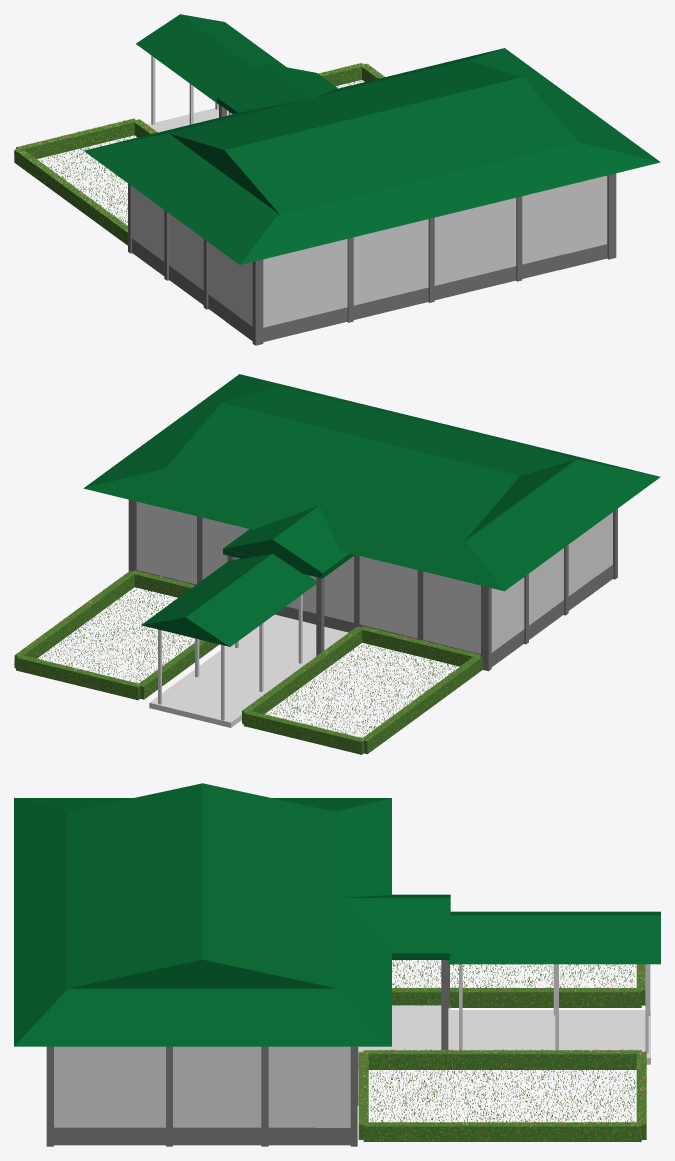
The model's file is MMNav.glb.
The picture shows the model from 3 angles, top to bottom: view 1: azimuth 30°, elevation 25°; view 2: azimuth 150°, elevation 25°; view 3: azimuth 270°, elevation 25°; orthographic projection. The views are drawn at different scales.
Parts seen in each view (by area): view 1: Cube.001, Cube.002, Cube, Cube.008, Cube.032, Trimmed flowering hedges around front lawns, Cube.003, Trimmed grass inside both hedge borders, Cube.029, Cube.026, Plane.002, Cube.009 (+3 smaller); view 2: Cube.001, Cube.002, Cube, Trimmed flowering hedges around front lawns, Cube.008, Cube.009, Trimmed grass inside both hedge borders, Cube.003, Cube.007, Cube.032, Cube.020, Cube.006 (+1 smaller); view 3: Cube.001, Cube.002, Cube, Trimmed flowering hedges around front lawns, Cube.008, Cube.009, Trimmed grass inside both hedge borders, Cube.003, Cube.032, Cube.007, Plane.003, Cube.023 (+4 smaller).
Part boxes in pixels (x1,y1,x2,y2): Cube.001: (168,60,578,214); Cube.002: (84,48,660,264); Cube: (132,175,607,327); Cube.008: (136,14,286,104); Cube.032: (132,238,565,341); Trimmed flowering hedges around front lawns: (14,63,384,245); Cube.003: (217,63,337,112); Trimmed grass inside both hedge borders: (39,80,362,223); Cube.029: (252,259,263,345); Cube.026: (607,173,616,259); Plane.002: (558,244,607,270); Cube.009: (147,108,228,132); Cube.001: (166,386,575,540); Cube.002: (83,374,660,591); Cube: (137,501,612,653); Trimmed flowering hedges around front lawns: (14,570,482,754); Cube.008: (141,553,316,646); Cube.009: (149,644,310,727); Trimmed grass inside both hedge borders: (38,588,457,737); Cube.003: (223,505,348,572); Cube.007: (239,614,348,659); Cube.032: (137,570,597,666); Cube.020: (481,585,491,671); Cube.006: (316,577,324,655); Cube.001: (67,783,338,988); Cube.002: (14,798,391,1046); Cube: (54,1046,350,1127); Trimmed flowering hedges around front lawns: (358,964,646,1141); Cube.008: (448,911,660,964); Cube.009: (448,1010,650,1064); Trimmed grass inside both hedge borders: (370,960,635,1122); Cube.003: (338,894,450,953); Cube.032: (54,1127,314,1145); Cube.007: (358,1005,450,1069); Plane.003: (282,1128,350,1145); Cube.023: (261,1046,268,1146).
Size of the model in its own units: 16.5 by 5.31 by 18.14.
